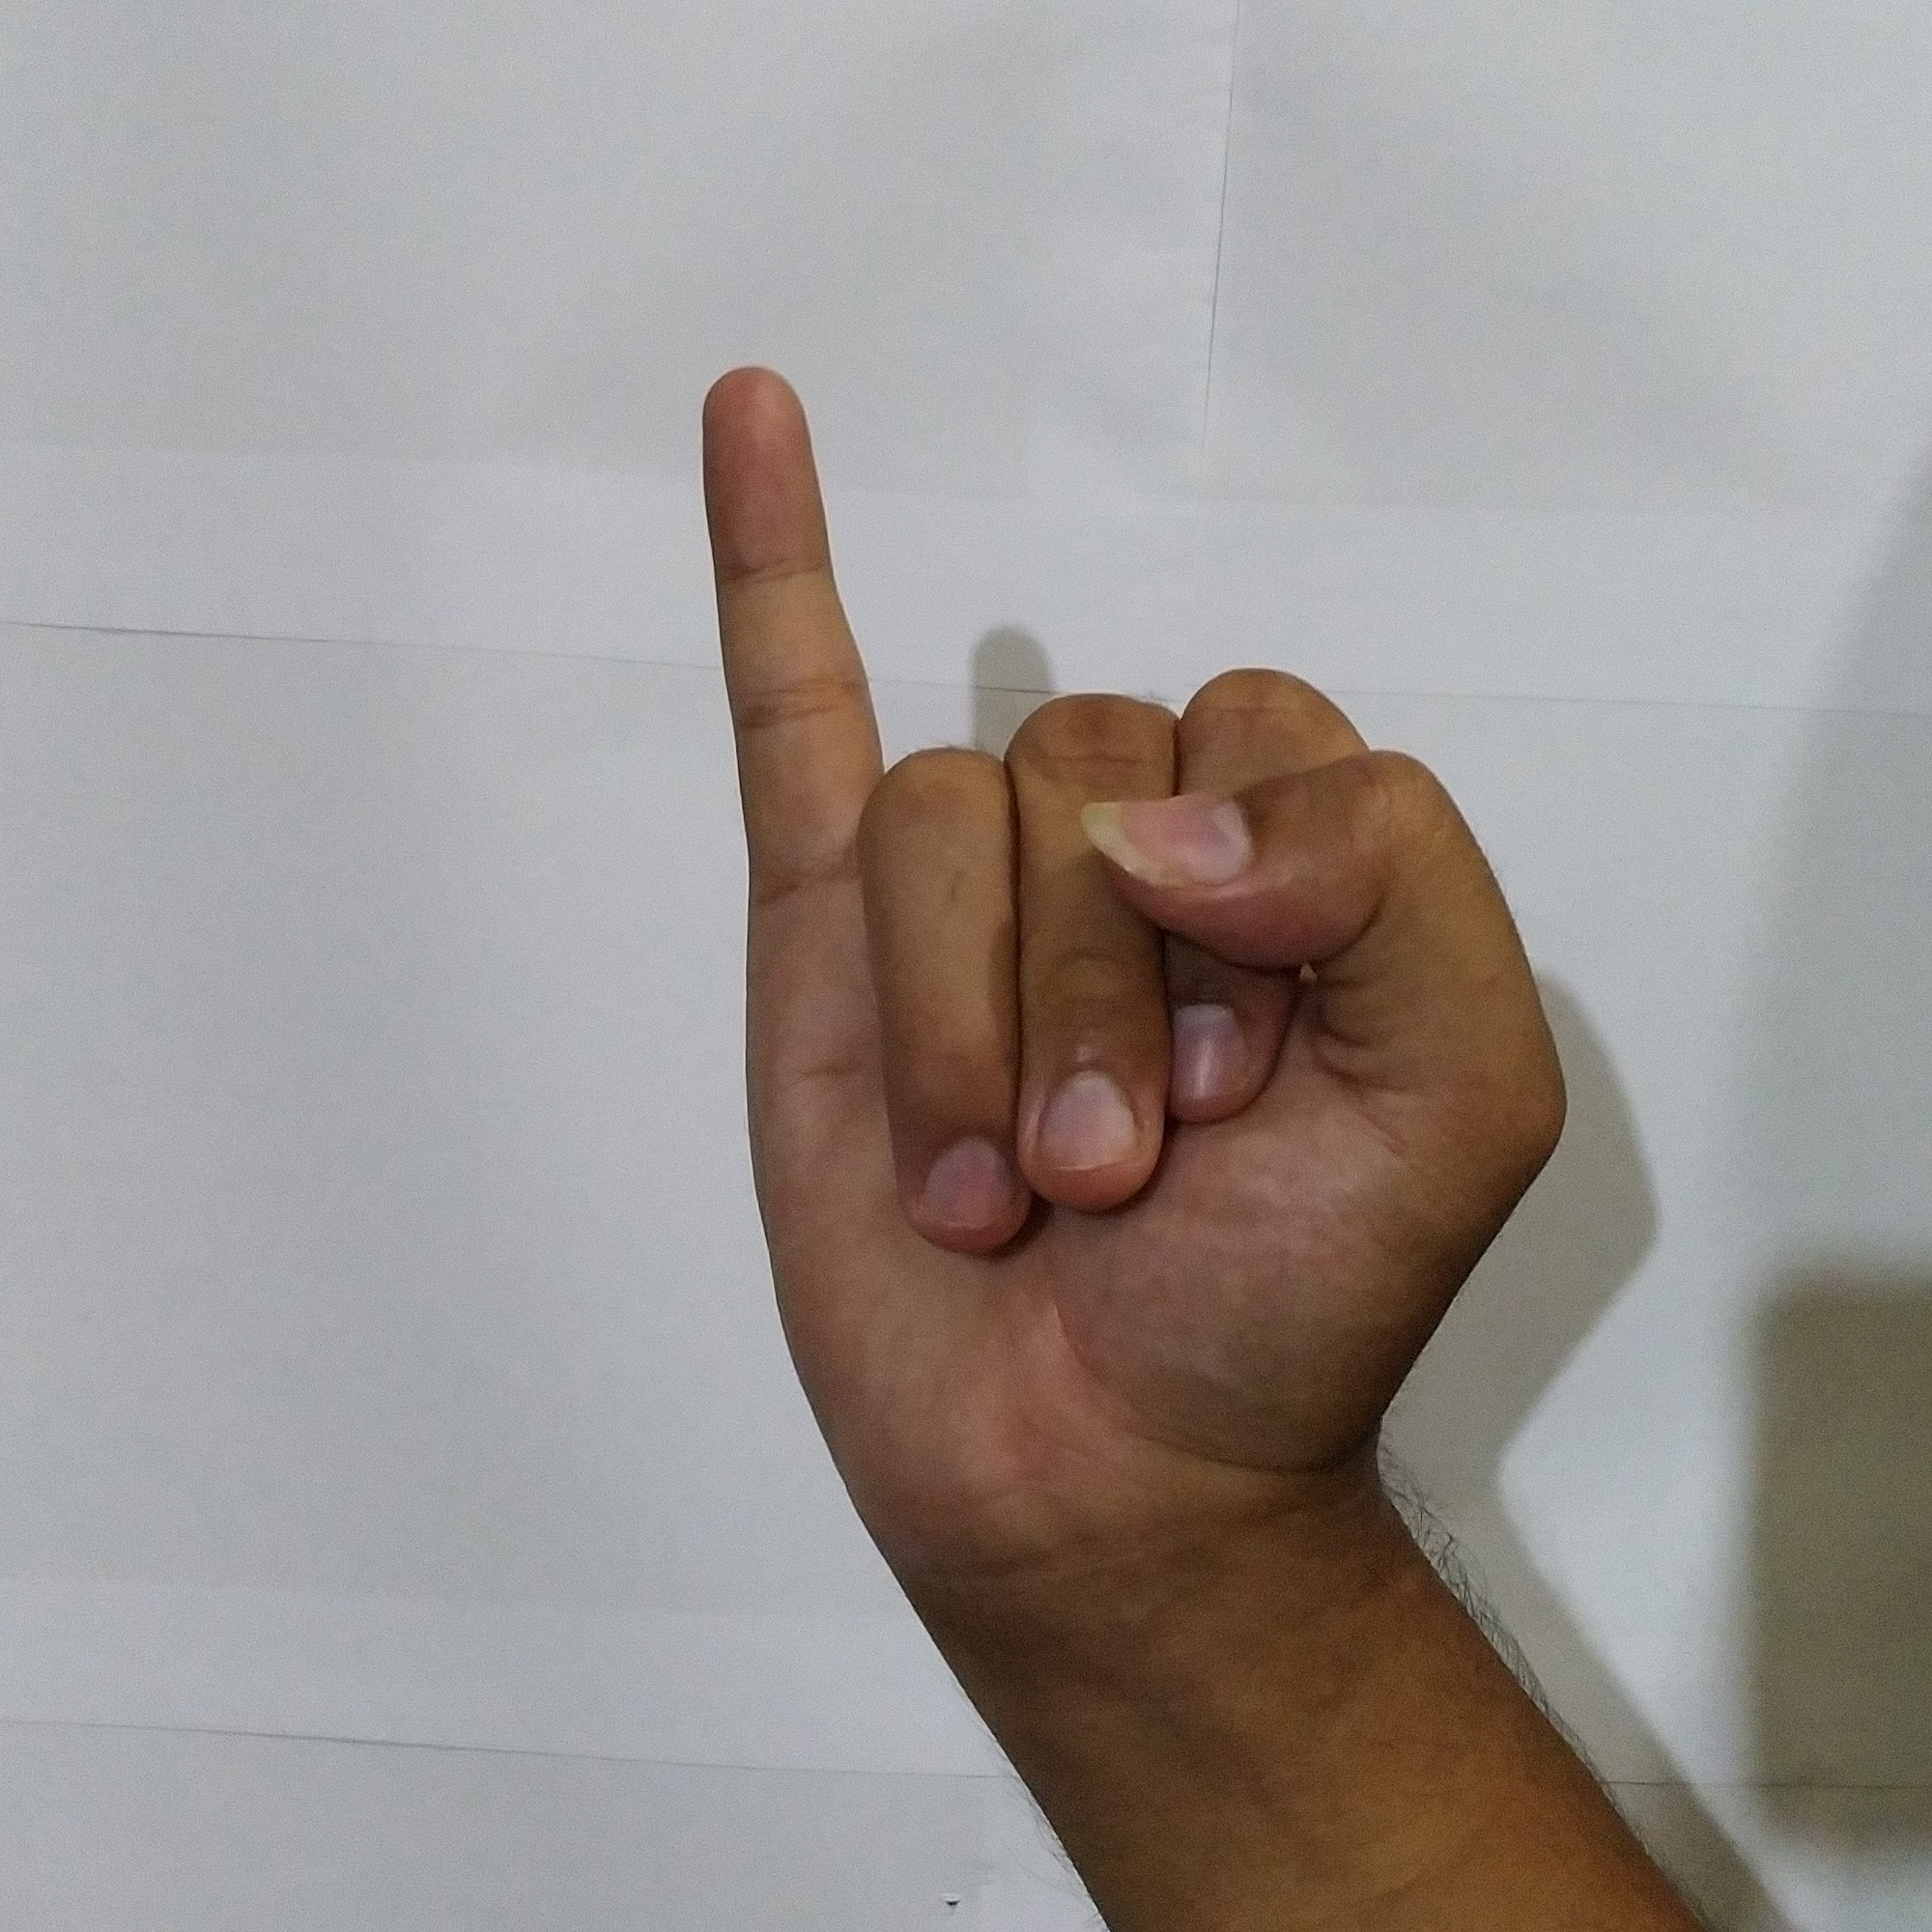I: (681, 349, 1587, 1476)
